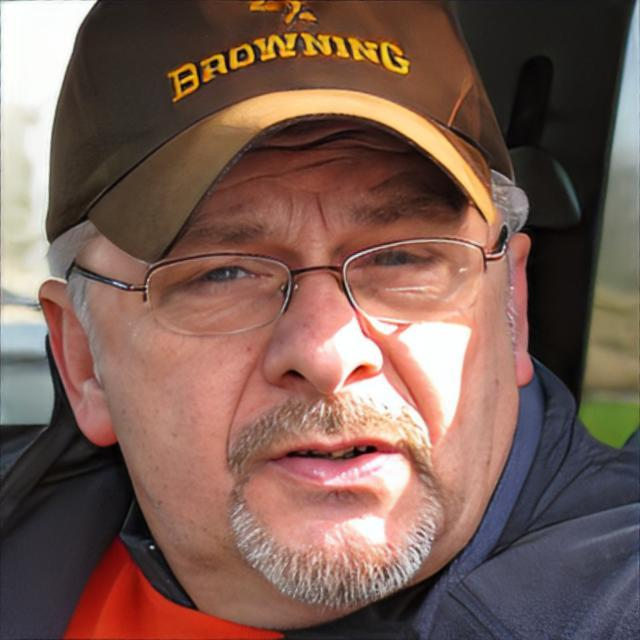anger: (98, 113, 514, 617)
